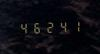four: (57, 19, 69, 33), (18, 21, 30, 34)
one: (70, 19, 82, 32)
six: (31, 20, 43, 34)
two: (44, 20, 56, 33)
